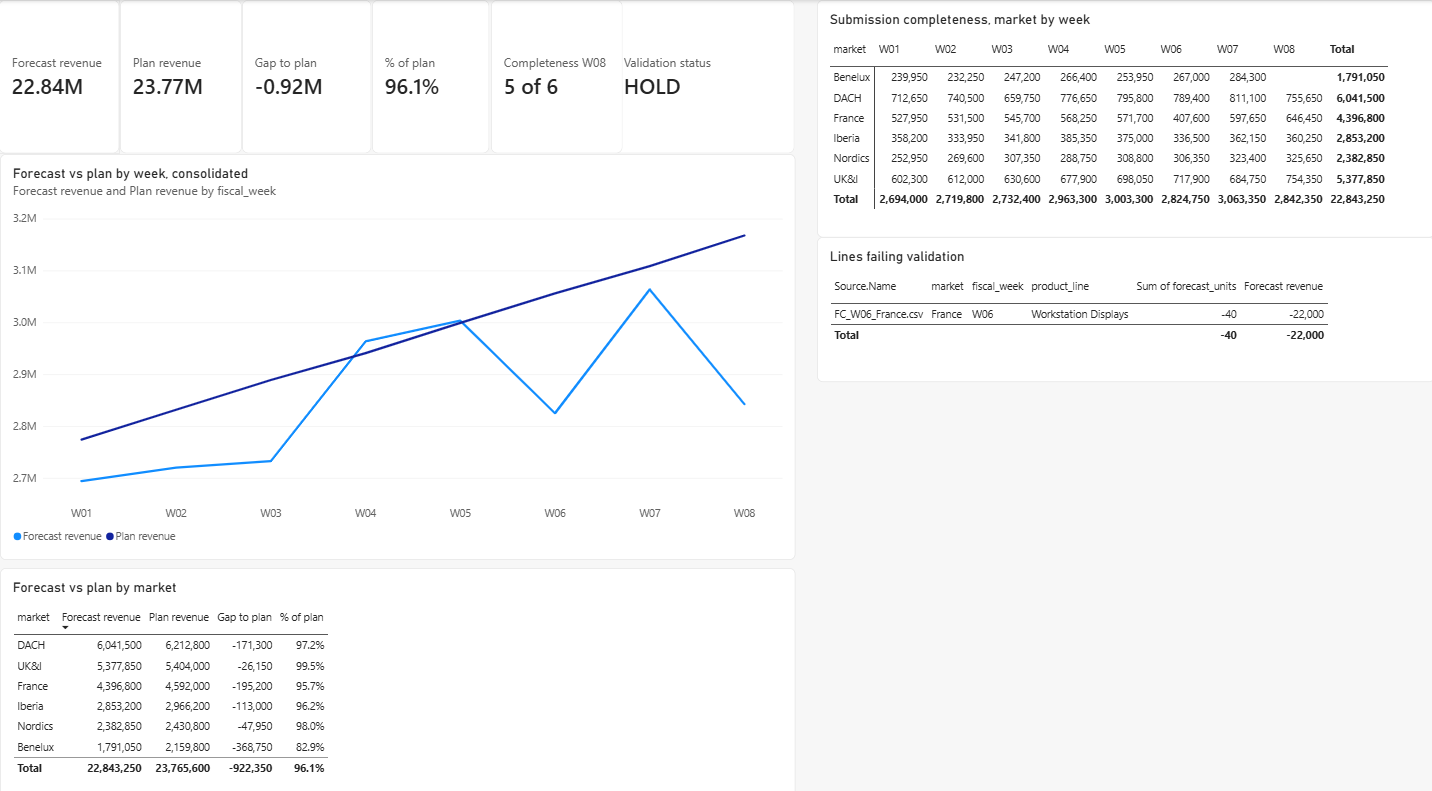

Layout of this report page (visuals, bound fields, positions):
{"tool":"powerbi","page":{"name":"Forecast consolidation","canvas":[1920,1080],"ordinal":2},"visuals":[{"type":"cardVisual","fields":{"Data":["Forecast.Forecast revenue"]},"box":[10.6,0,160.9,204.8],"z":0},{"type":"cardVisual","fields":{"Data":["Plan.Plan revenue"]},"box":[171.6,0,162.3,204.8],"z":1000},{"type":"cardVisual","fields":{"Data":["Plan.Gap to plan"]},"box":[333.8,0,172.9,204.8],"z":2000},{"type":"cardVisual","fields":{"Data":["Plan.% of plan"]},"box":[506.7,0,156.9,204.8],"z":3000},{"type":"cardVisual","fields":{"Data":["Plan.Validation status"]},"box":[824.9,0,244.7,204.8],"z":4000},{"type":"cardVisual","fields":{"Data":["Plan.Completeness W08"]},"box":[665,0,175.6,204.8],"z":5000},{"type":"lineChart","title":"Forecast vs plan by week, consolidated","fields":{"Category":["Plan.fiscal_week"],"Y":["Forecast.Forecast revenue","Plan.Plan revenue"]},"box":[11.6,205.1,1057.5,540.3],"z":6000},{"type":"tableEx","title":"Forecast vs plan by market","fields":{"Values":["Plan.market","Forecast.Forecast revenue","Plan.Plan revenue","Plan.Gap to plan","Plan.% of plan"]},"box":[12,755,1058,325],"z":7000},{"type":"pivotTable","title":"Submission completeness, market by week","fields":{"Columns":["Plan.fiscal_week"],"Rows":["Plan.market"],"Values":["Forecast.Forecast revenue"]},"box":[1098,0,822,316.4],"z":8000},{"type":"tableEx","title":"Lines failing validation","fields":{"Values":["Forecast.Source.Name","Forecast.market","Forecast.fiscal_week","Forecast.product_line","Sum(Forecast.forecast_units)","Forecast.Forecast revenue"]},"box":[1098.1,315.9,821.9,193.5],"z":9000}]}

Visuals, with their boxes in screenshot pixels (x1, y1, x2, y2), scaled from the page's 1920x1080 canvas onto the 1432x791 screenshot:
cardVisual - Forecast.Forecast revenue: <bbox>8, 0, 128, 150</bbox>
cardVisual - Plan.Plan revenue: <bbox>128, 0, 249, 150</bbox>
cardVisual - Plan.Gap to plan: <bbox>249, 0, 378, 150</bbox>
cardVisual - Plan.% of plan: <bbox>378, 0, 495, 150</bbox>
cardVisual - Plan.Validation status: <bbox>615, 0, 798, 150</bbox>
cardVisual - Plan.Completeness W08: <bbox>496, 0, 627, 150</bbox>
"Forecast vs plan by week, consolidated" lineChart: <bbox>9, 150, 797, 546</bbox>
"Forecast vs plan by market" tableEx: <bbox>9, 553, 798, 790</bbox>
"Submission completeness, market by week" pivotTable: <bbox>819, 0, 1431, 232</bbox>
"Lines failing validation" tableEx: <bbox>819, 231, 1431, 373</bbox>
